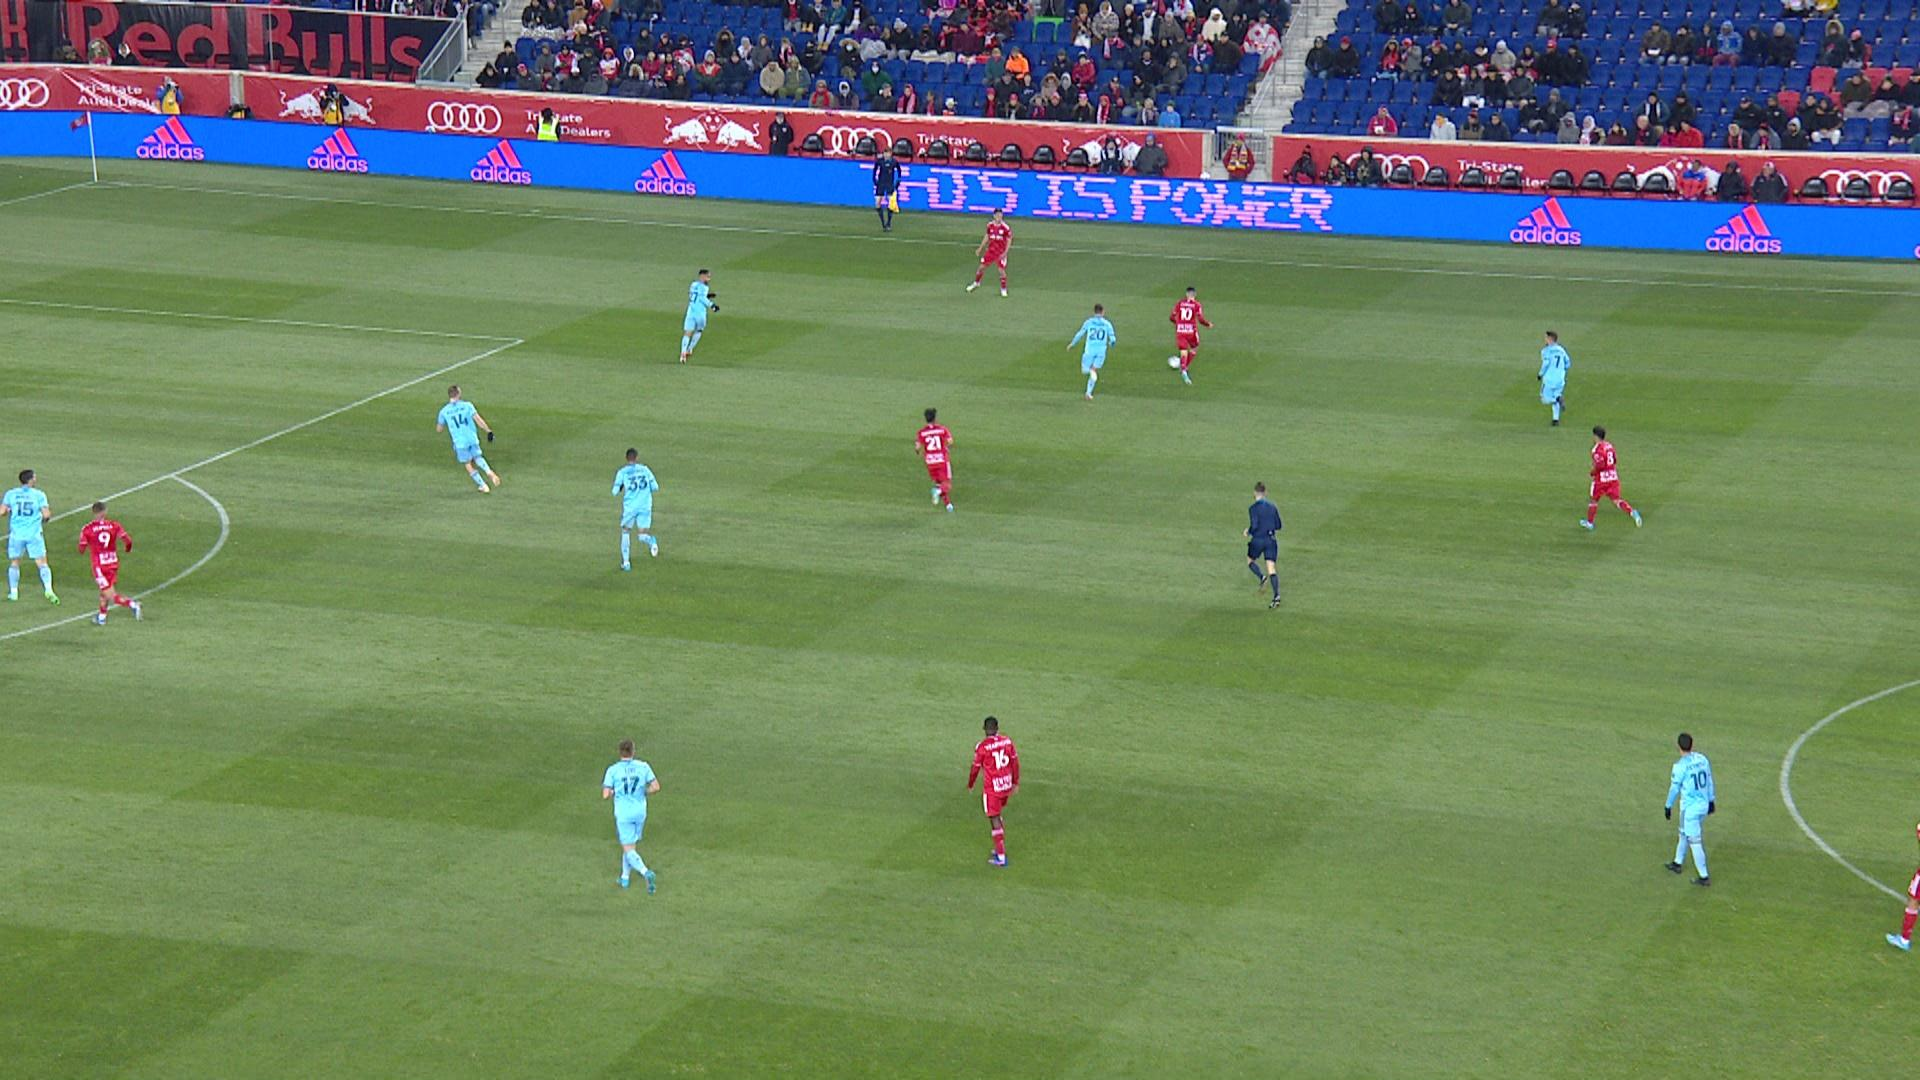football: (1167, 353, 1180, 371)
